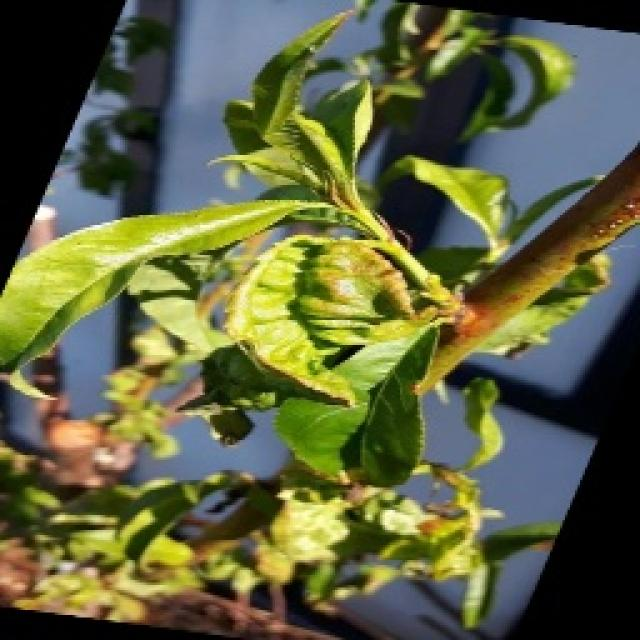Chlorosis: (0, 0, 638, 638)
peach_leaf_curl: (220, 230, 418, 408)
